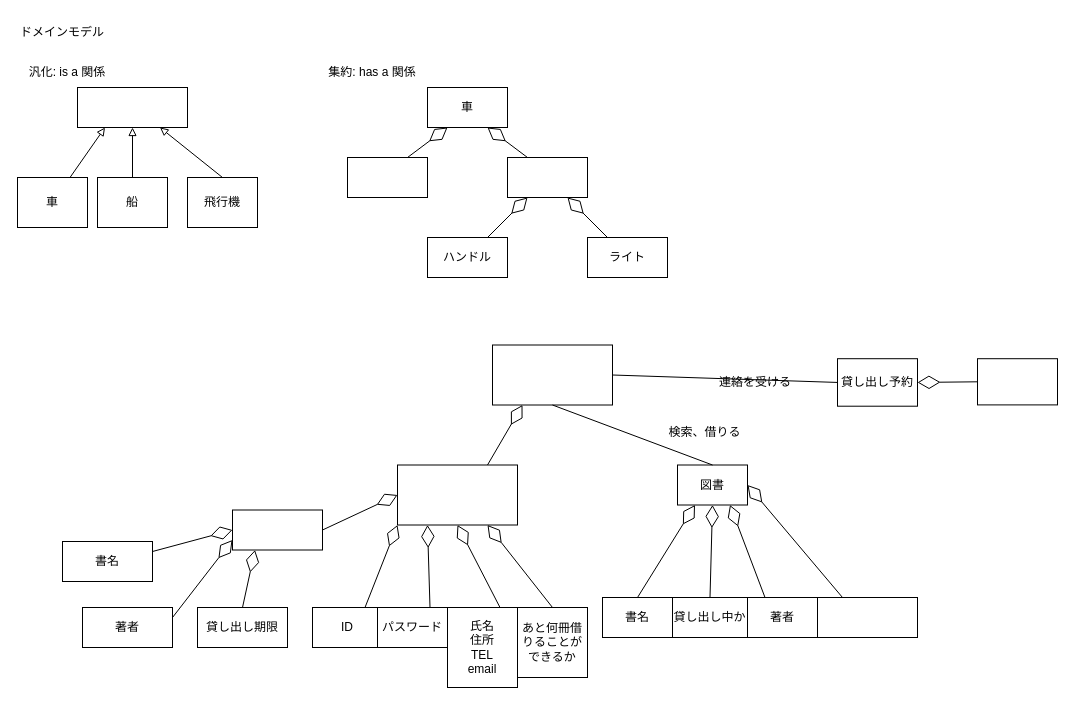
The diagram is 1075 pixels wide and 705 high, and some of its shapes have lost their labels. Here are the shapes that lost their labels. From the top down, the centre of each, then its label:
the point at 132,107: 乗り物
the point at 387,177: エンジン
the point at 547,177: ボディ
the point at 552,374: 利用者
the point at 1017,381: 必要事項
the point at 457,494: 図書カード
the point at 277,529: 借りている本
the point at 867,617: どこの棚にあるか
